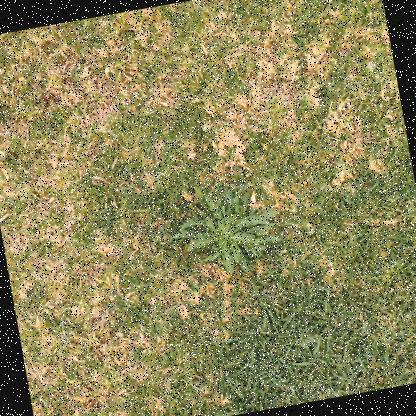Weeds: (164, 171, 290, 285)
